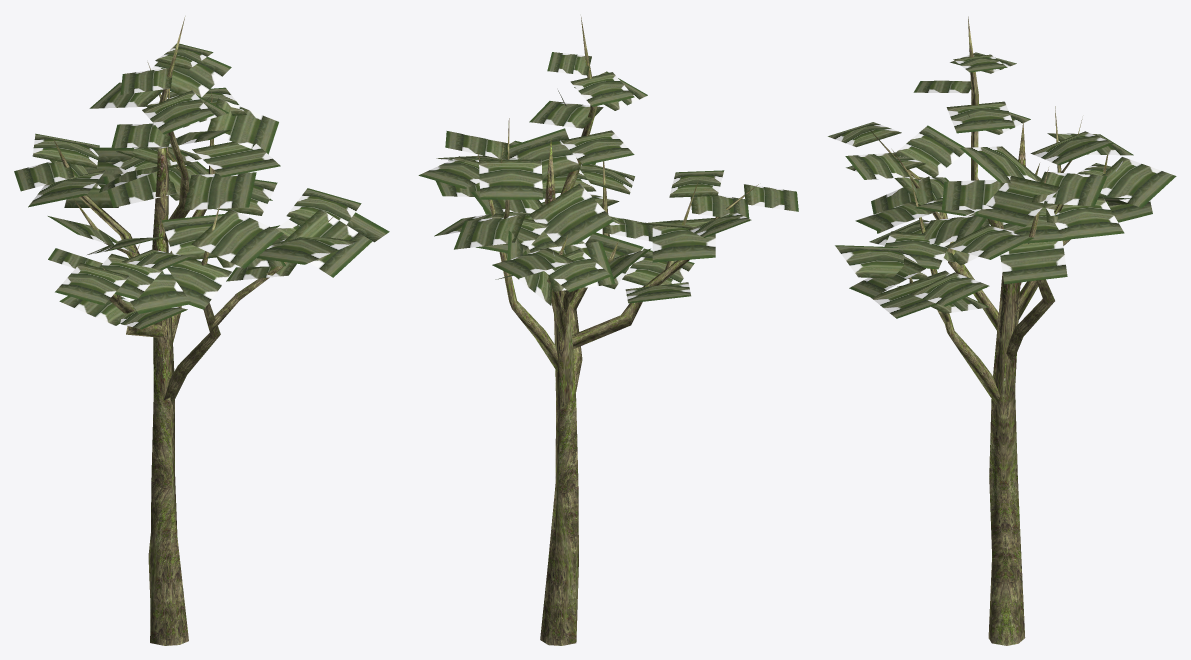
Rendered from S_Tree_Green030.FBX.
3 views of the same model, side by side, from view 1: azimuth 30°, elevation 25°; view 2: azimuth 150°, elevation 25°; view 3: azimuth 270°, elevation 25° (orthographic). The views are drawn at different scales.
Parts seen in each view (by area): view 1: S_Tree_Green030; view 2: S_Tree_Green030; view 3: S_Tree_Green030.
Boxes of the visible parts, bbox=[...] form: S_Tree_Green030: bbox=[14, 16, 389, 645]; S_Tree_Green030: bbox=[418, 17, 798, 645]; S_Tree_Green030: bbox=[828, 16, 1176, 645].
Bounding box in the file's own units: 371 × 333 × 654.
